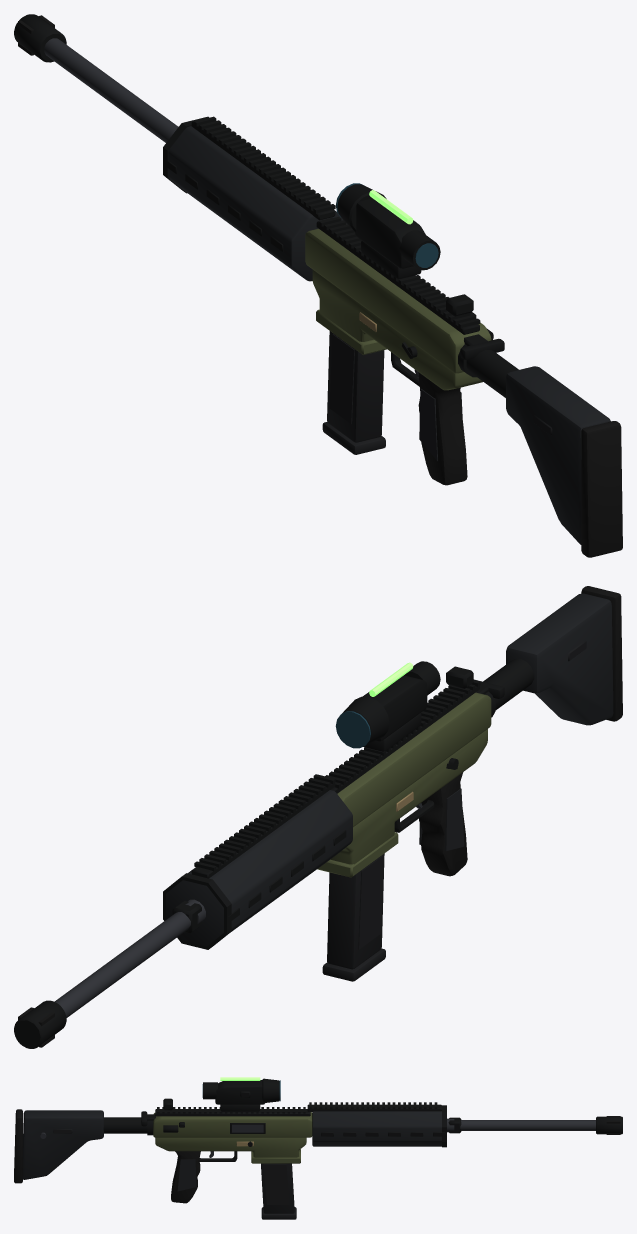
The model's file is gun_07.glb.
The picture shows the model from 3 angles, top to bottom: view 1: azimuth 30°, elevation 25°; view 2: azimuth 150°, elevation 25°; view 3: azimuth 270°, elevation 25°; orthographic projection. The views are drawn at different scales.
Parts seen in each view (by area): view 1: gun_07; view 2: gun_07; view 3: gun_07.
Part boxes in pixels (left/top/right/bottom): gun_07: left=14, top=14, right=622, bottom=557; gun_07: left=14, top=586, right=622, bottom=1048; gun_07: left=14, top=1077, right=622, bottom=1219.
Bounding box in the file's own units: 0.0786 × 0.3075 × 1.22.
